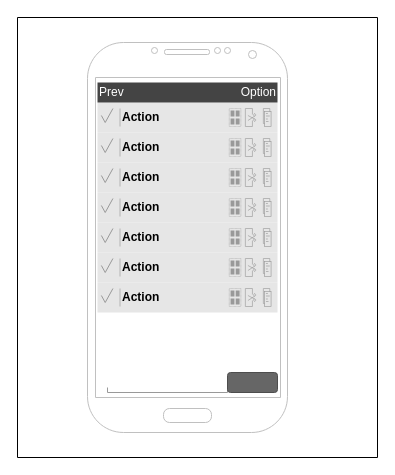
Image size: 395x475. Some labels were removed from this diagram. Each missing label, with the centre of its shape:
"input" goes at point (167, 377).
"Send" goes at point (252, 382).
"{{Today}}" goes at point (187, 92).
